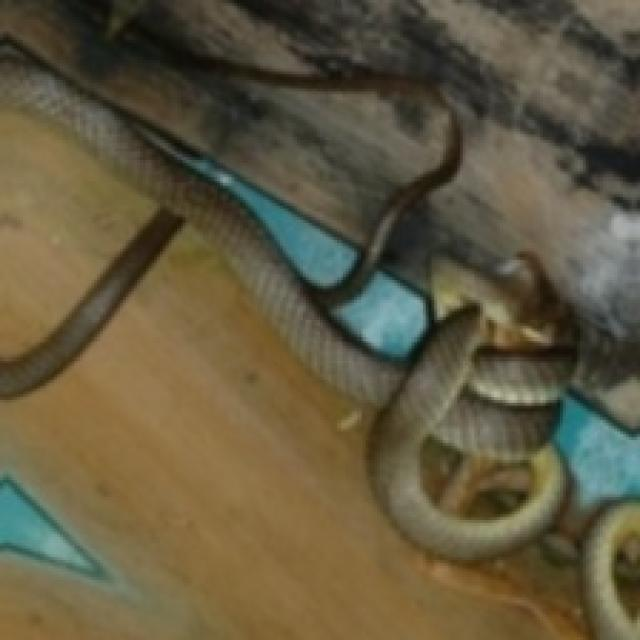paradise tree snake: (0, 46, 591, 637), (0, 0, 637, 340)
